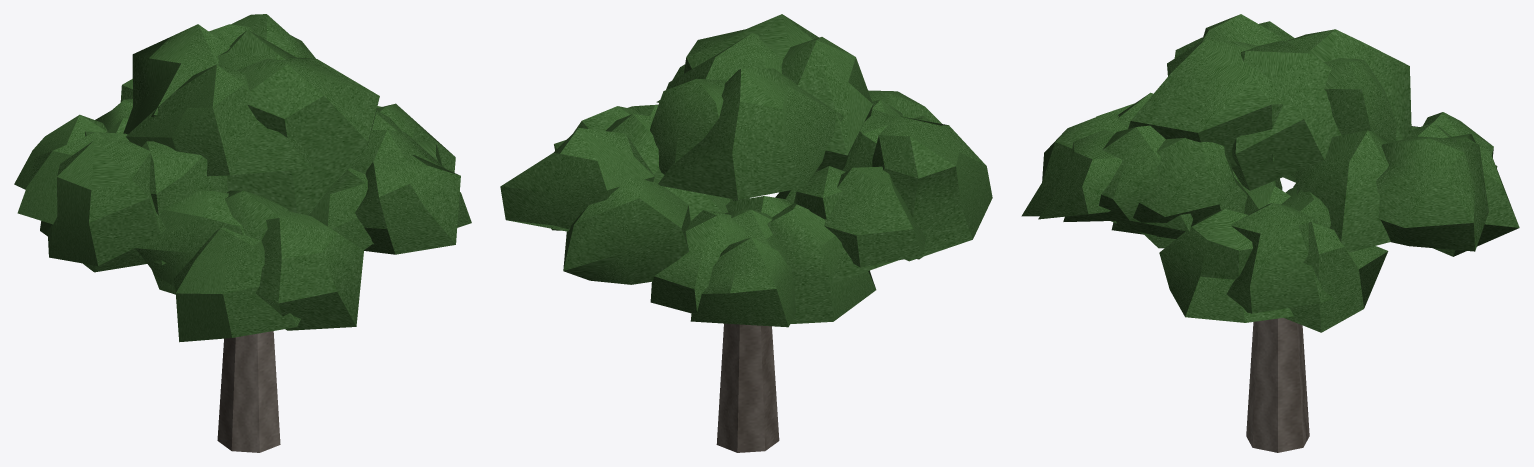
Rendered from ambient_tree_16.glb.
The picture shows the model from 3 angles, left to right: view 1: azimuth 30°, elevation 25°; view 2: azimuth 150°, elevation 25°; view 3: azimuth 270°, elevation 25°; orthographic projection.
Parts seen in each view (by area): view 1: ambient_tree_16; view 2: ambient_tree_16; view 3: ambient_tree_16.
Part boxes in pixels (x1,y1,x2,y2): ambient_tree_16: (14, 14, 471, 452); ambient_tree_16: (500, 14, 992, 452); ambient_tree_16: (1021, 14, 1519, 452).
Bounding box in the file's own units: 8.23 × 7.73 × 8.72.
2 materials, 2 textured.
